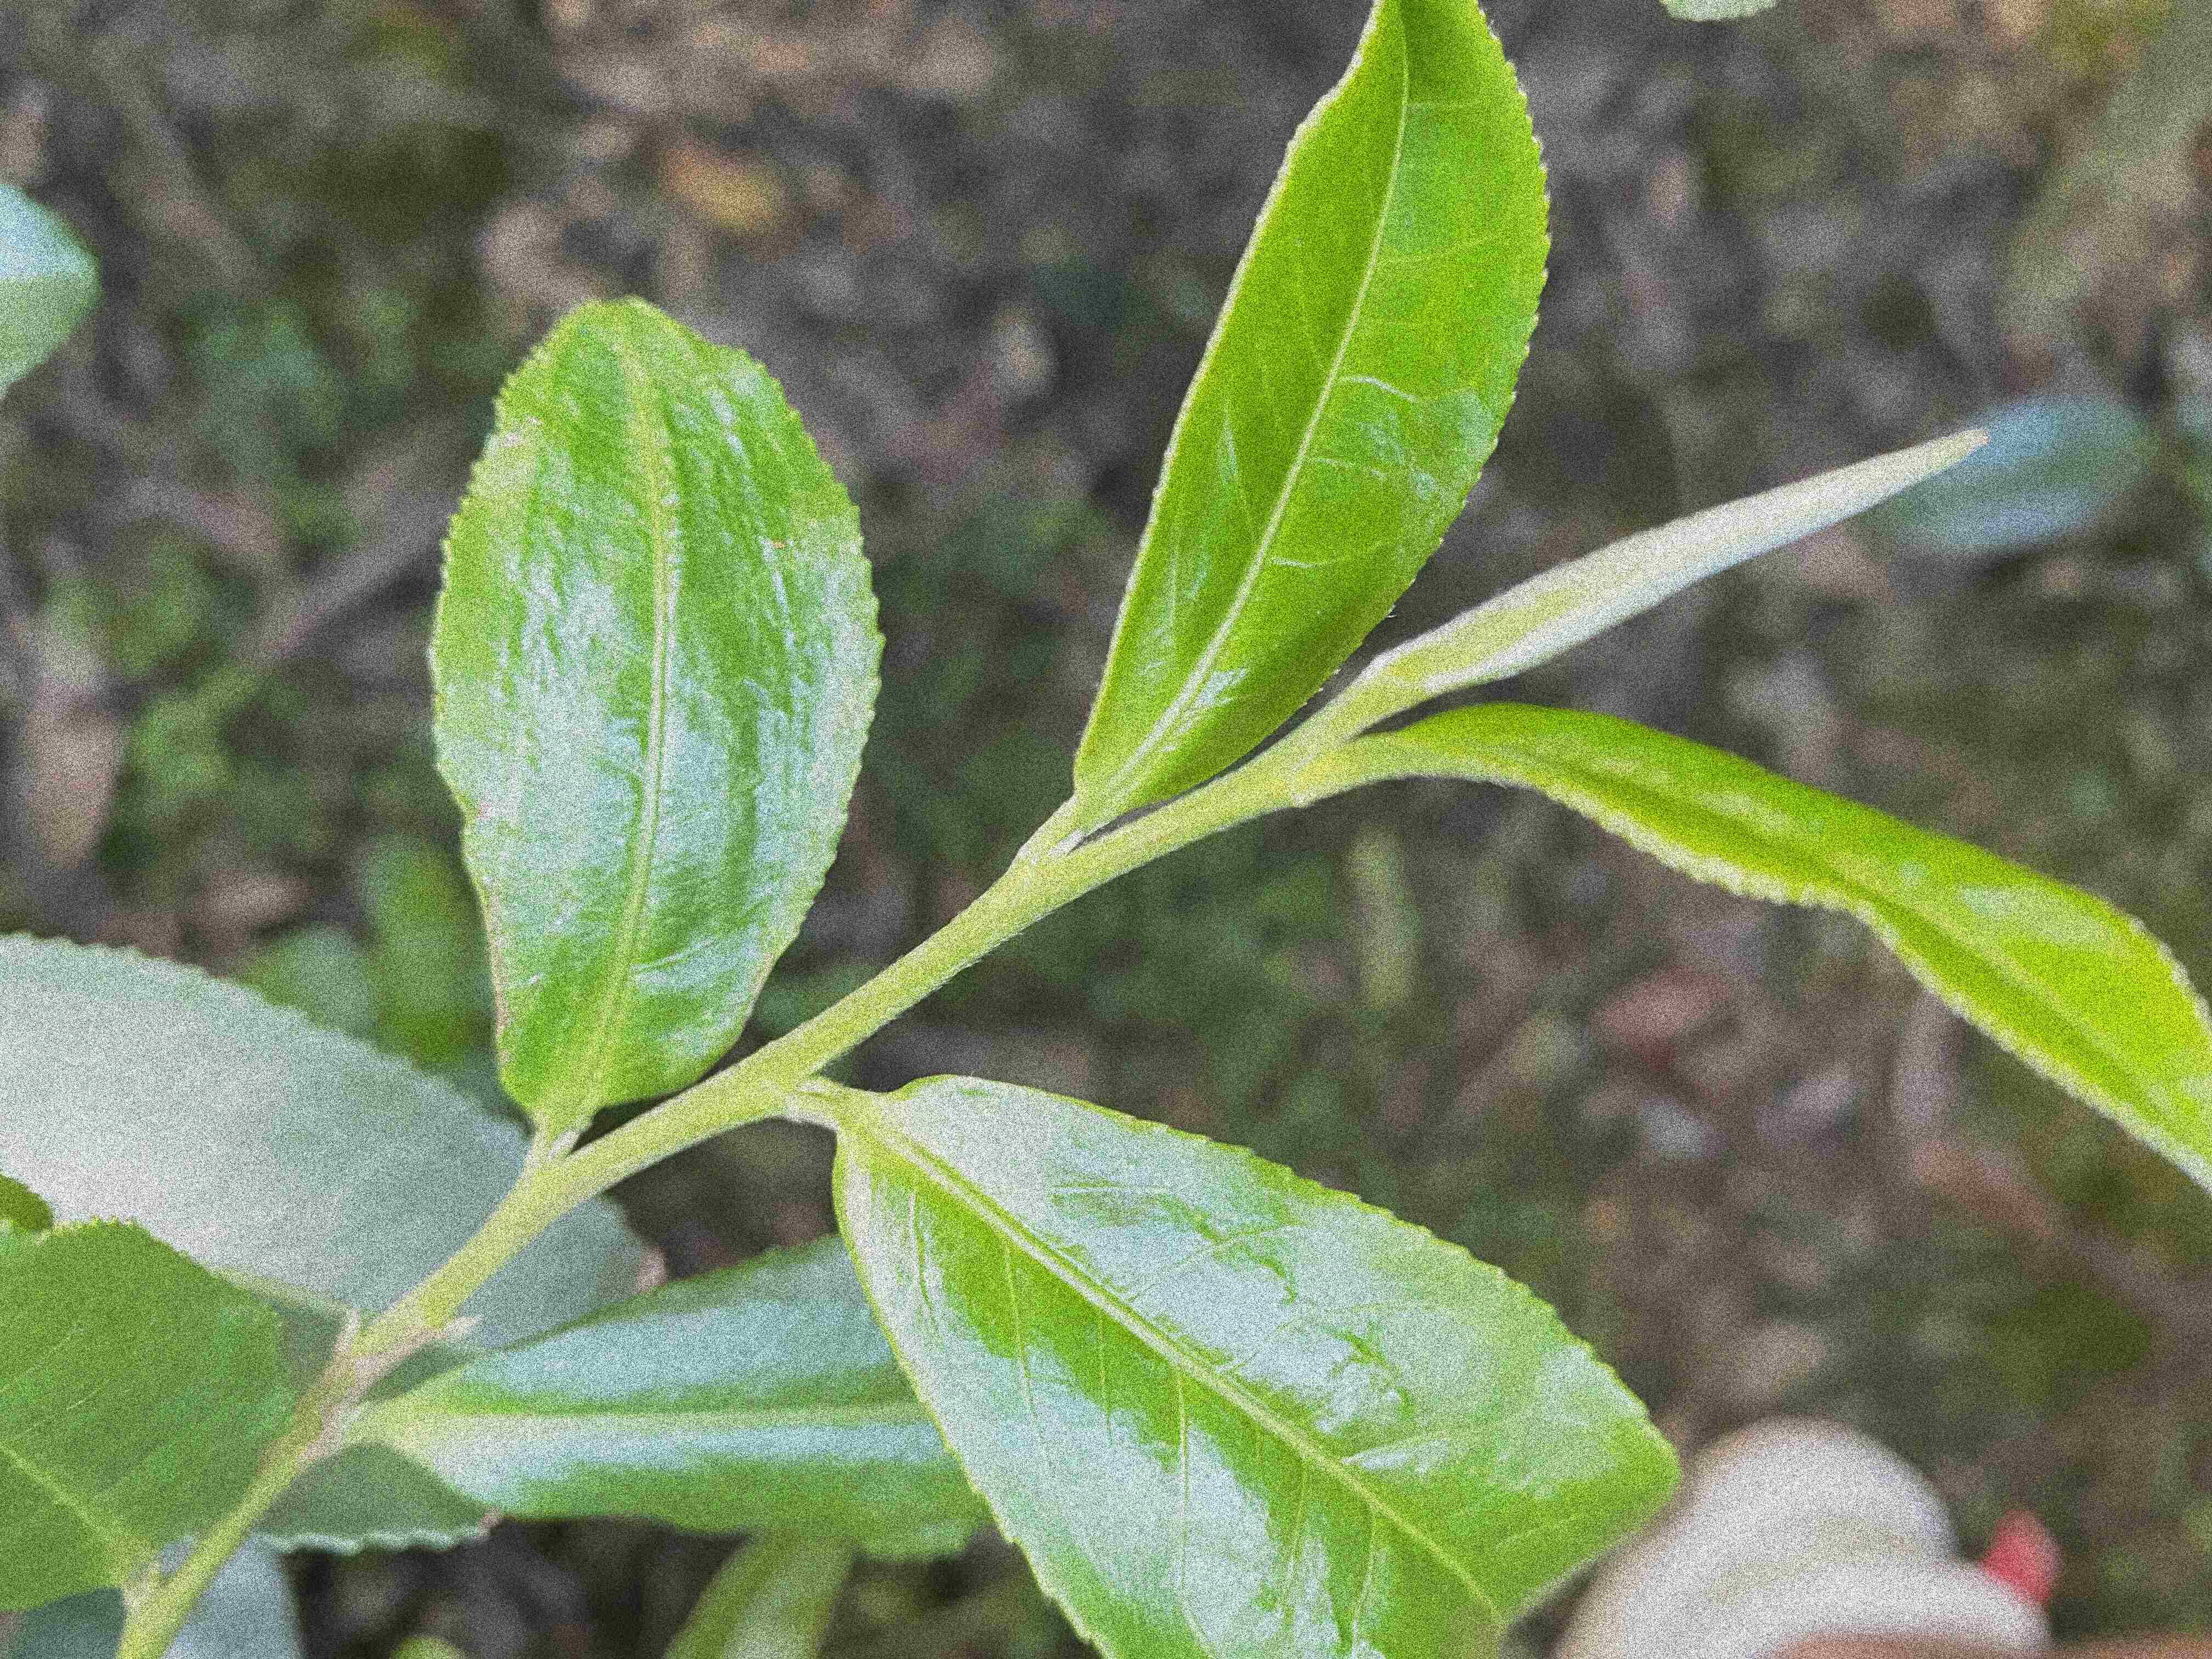healthy: (824, 1073, 1684, 1654), (1069, 2, 1554, 810)
tanju_low: (420, 289, 888, 1134)
